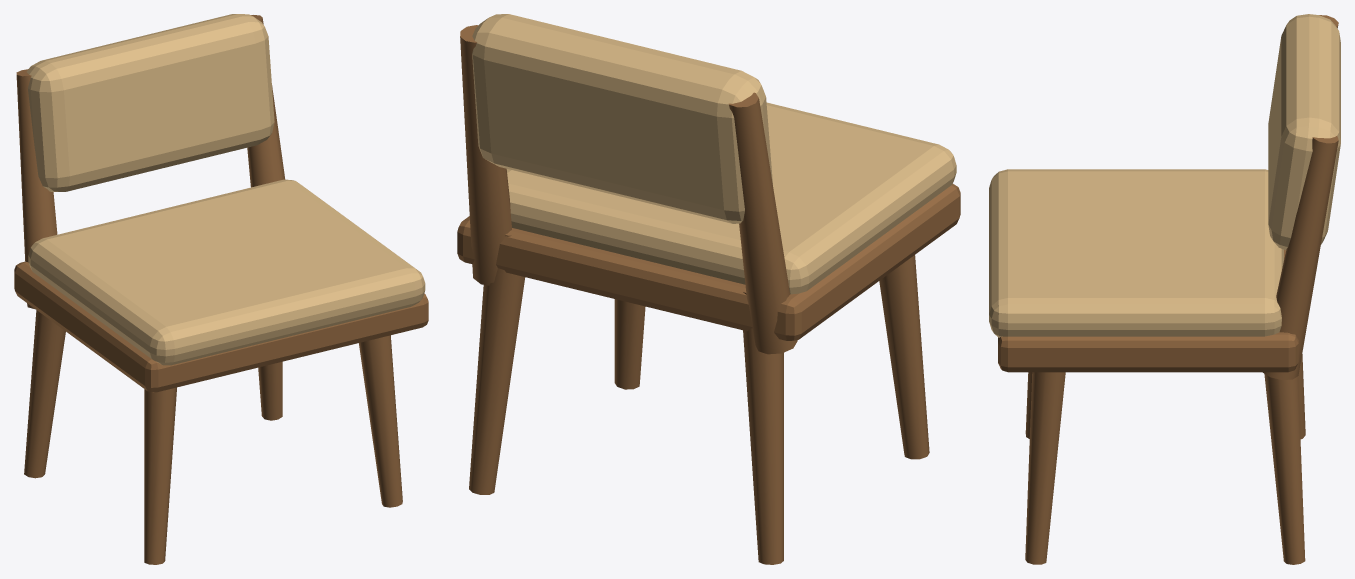
File: chair-sand.glb
The picture shows the model from 3 angles, left to right: view 1: azimuth 30°, elevation 25°; view 2: azimuth 150°, elevation 25°; view 3: azimuth 270°, elevation 25°; orthographic projection. The views are drawn at different scales.
Visible parts, largest first — view 1: chair-sand; view 2: chair-sand; view 3: chair-sand.
Boxes of the visible parts, x1,y1,x2,y2 form: chair-sand: [14, 14, 428, 564]; chair-sand: [457, 14, 960, 564]; chair-sand: [989, 14, 1340, 564].
Bounding box in the file's own units: 0.65 × 0.88 × 0.65.
